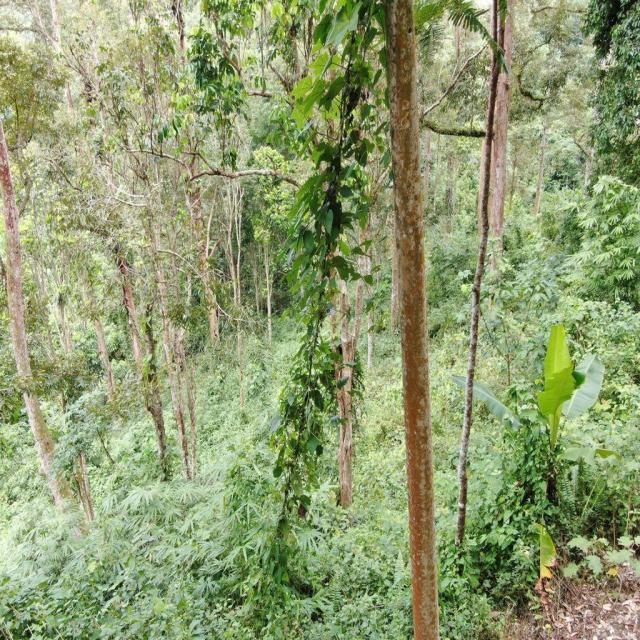critical vegetation: (241, 23, 403, 632)
